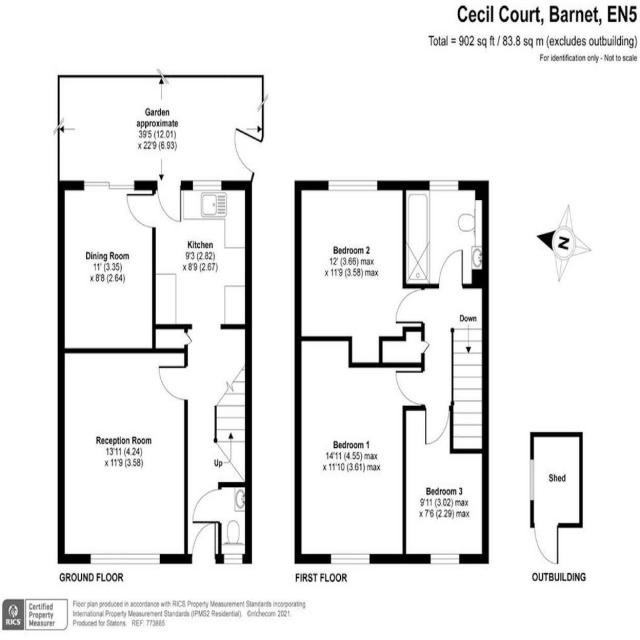DOOR: (124, 191, 158, 232), (157, 362, 190, 403), (190, 484, 222, 525), (190, 519, 218, 565), (394, 287, 426, 326), (424, 402, 451, 448), (437, 246, 465, 290), (394, 369, 427, 406)
ROOM: (294, 335, 426, 565), (56, 347, 189, 564), (294, 179, 427, 368), (124, 179, 253, 330), (57, 179, 157, 354), (402, 404, 490, 564)
WINDOW: (89, 551, 162, 566), (326, 178, 379, 193), (329, 552, 371, 566), (191, 176, 224, 193), (428, 551, 462, 566), (427, 178, 460, 193), (222, 550, 245, 566)
